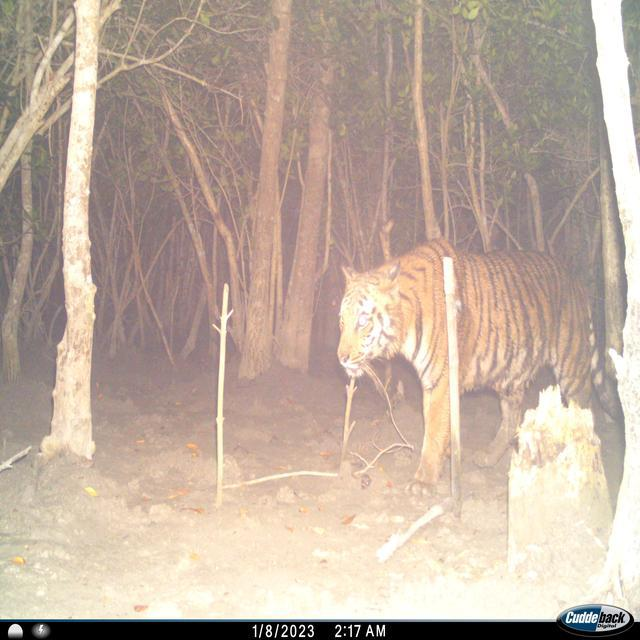tiger: (335, 236, 619, 497)
